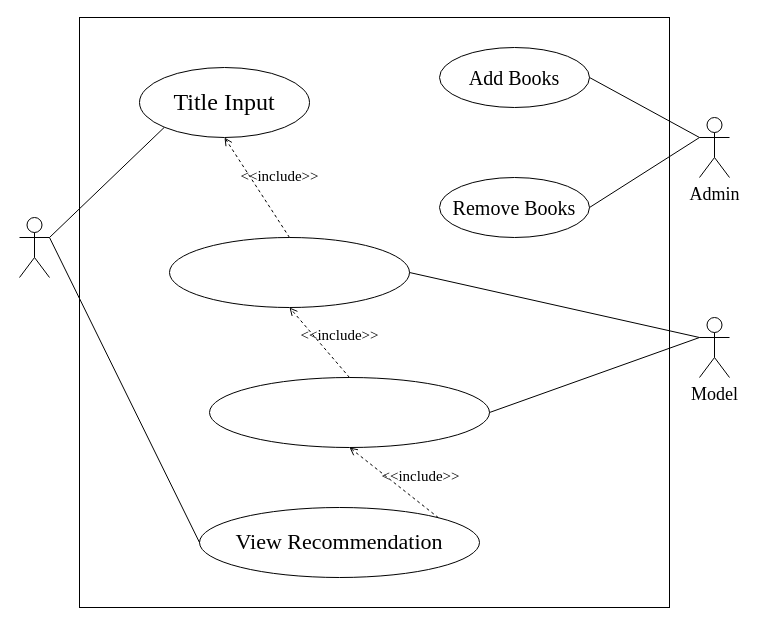
The diagram is 757 pixels wide and 625 high, and some of its shapes have lost their labels. The shapes that lost their labels are listed below. From the top down, each one's centre as x and y in pixels, then its label:
pixel 34 247: User
pixel 289 272: Similarity Evaluation
pixel 349 412: Generate Recommendation
